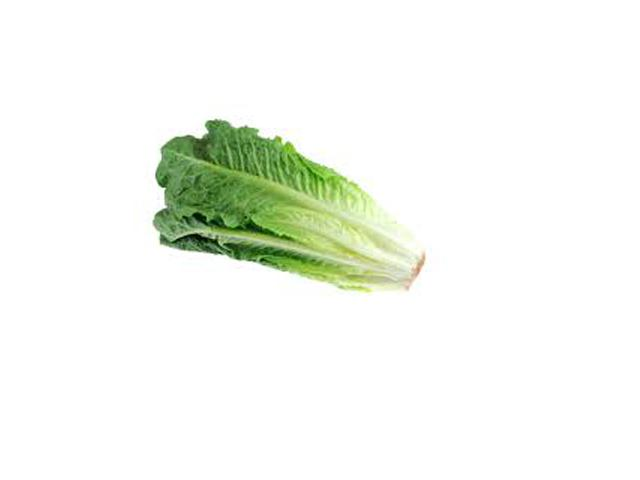lettuce: (145, 123, 440, 299)
